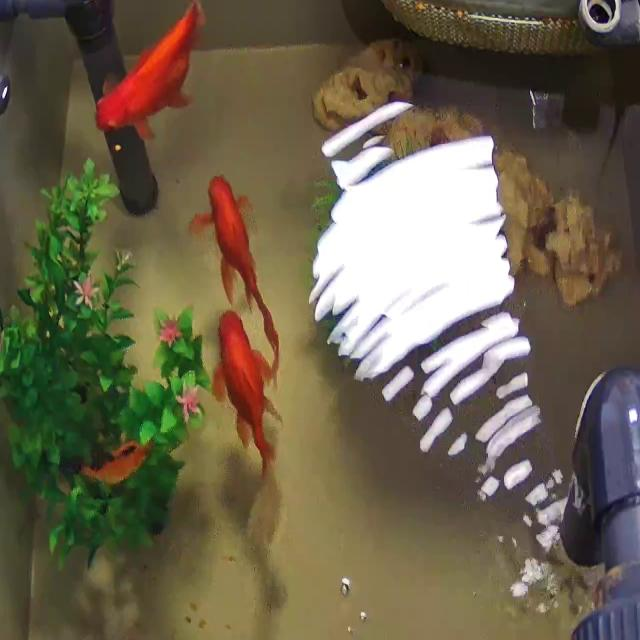fish: (90, 0, 214, 148), (194, 171, 280, 362), (214, 311, 282, 476), (78, 439, 156, 488)
